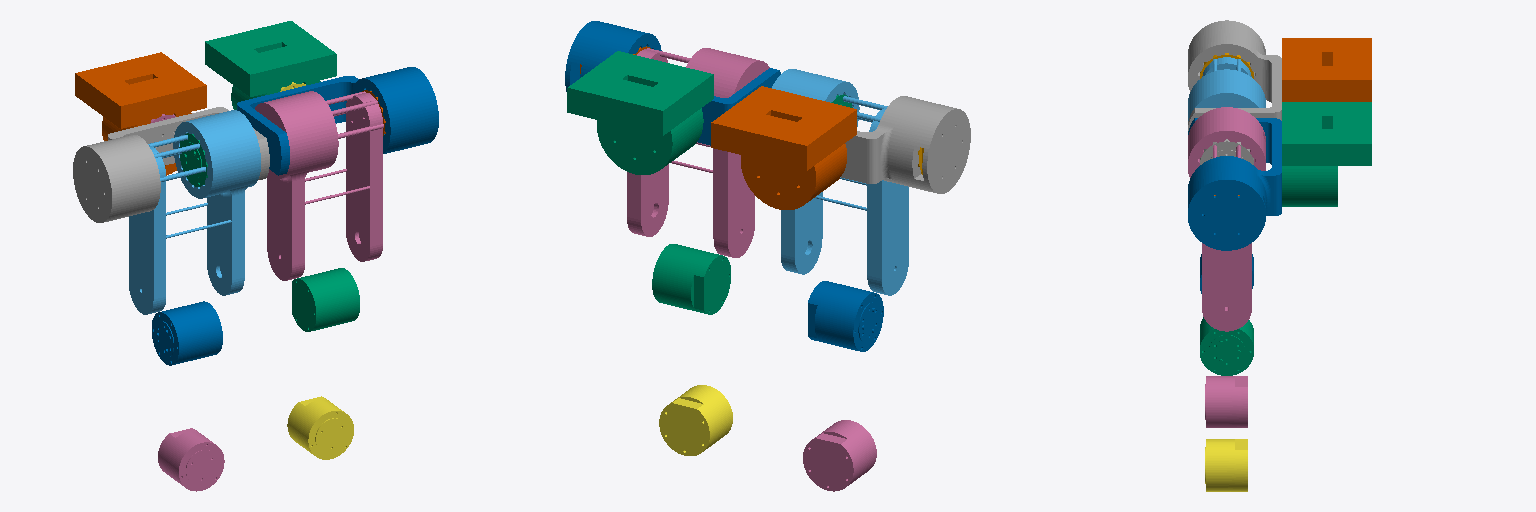
robot.urdf — URDF:
<?xml version='1.0' encoding='utf-8'?>
<robot name="URDF">
  <link name="world" />
  <joint name="floating_base" type="floating">
    <parent link="world" />
    <child link="base_link" />
    <origin xyz="0 0 0" rpy="0 0 0" />
  </joint>
  <link name="base_link">
    <inertial>
      <origin xyz="0.0 -0.03 0.48450000000000004" rpy="0 0 0" />
      <mass value="1.9999979999999995" />
      <inertia ixx="0.016963" iyy="0.016429" izz="0.030533" ixy="0.0" iyz="0.00168" ixz="0.0" />
    </inertial>
    <visual>
      <origin xyz="0 0 0" rpy="0 0 0" />
      <geometry>
        <mesh filename="base_link.stl" scale="0.001 0.001 0.001" />
      </geometry>
      <material name="silver" />
    </visual>
    <collision>
      <origin xyz="0 0 0" rpy="0 0 0" />
      <geometry>
        <mesh filename="base_link.stl" scale="0.001 0.001 0.001" />
      </geometry>
    </collision>
  </link>
  <link name="hipjoint2_L_1">
    <inertial>
      <origin xyz="0.07499938988480921 -0.010369568761044723 -0.44821148623901264" rpy="0 0 0" />
      <mass value="0.09998953884548026" />
      <inertia ixx="0.000126" iyy="0.000143" izz="0.000142" ixy="-0.0" iyz="-1.6e-05" ixz="-0.0" />
    </inertial>
    <visual>
      <origin xyz="-0.0 -0.05 -0.84" rpy="0 0 0" />
      <geometry>
        <mesh filename="hipjoint2_L_1.stl" scale="0.001 0.001 0.001" />
      </geometry>
      <material name="silver" />
    </visual>
    <collision>
      <origin xyz="-0.0 -0.05 -0.84" rpy="0 0 0" />
      <geometry>
        <mesh filename="hipjoint2_L_1.stl" scale="0.001 0.001 0.001" />
      </geometry>
    </collision>
  </link>
  <link name="AK45-36_hiproll_L_1">
    <inertial>
      <origin xyz="3.649858193455202e-15 -0.025929681922883942 -0.00025395116497450854" rpy="0 0 0" />
      <mass value="0.33995023875860664" />
      <inertia ixx="0.000136" iyy="0.000127" izz="0.000138" ixy="0.0" iyz="2e-06" ixz="0.0" />
    </inertial>
    <visual>
      <origin xyz="-0.075 -0.05 -0.3705" rpy="0 0 0" />
      <geometry>
        <mesh filename="AK45-36_hiproll_L_1.stl" scale="0.001 0.001 0.001" />
      </geometry>
      <material name="silver" />
    </visual>
    <collision>
      <origin xyz="-0.075 -0.05 -0.3705" rpy="0 0 0" />
      <geometry>
        <mesh filename="AK45-36_hiproll_L_1.stl" scale="0.001 0.001 0.001" />
      </geometry>
    </collision>
  </link>
  <link name="hipjoint1_L_1">
    <inertial>
      <origin xyz="0.04322145895224758 -0.041064731227878085 -7.216449660063518e-16" rpy="0 0 0" />
      <mass value="0.09999002260131924" />
      <inertia ixx="0.000128" iyy="0.000429" izz="0.000476" ixy="6.1e-05" iyz="0.0" ixz="0.0" />
    </inertial>
    <visual>
      <origin xyz="-0.075 0.002 -0.3705" rpy="0 0 0" />
      <geometry>
        <mesh filename="hipjoint1_L_1.stl" scale="0.001 0.001 0.001" />
      </geometry>
      <material name="silver" />
    </visual>
    <collision>
      <origin xyz="-0.075 0.002 -0.3705" rpy="0 0 0" />
      <geometry>
        <mesh filename="hipjoint1_L_1.stl" scale="0.001 0.001 0.001" />
      </geometry>
    </collision>
  </link>
  <link name="AK45-36_hippitch_L_1">
    <inertial>
      <origin xyz="-0.025929681922883946 -0.0002539511649743906 3.219646771412954e-15" rpy="0 0 0" />
      <mass value="0.33995023875860664" />
      <inertia ixx="0.000127" iyy="0.000138" izz="0.000136" ixy="2e-06" iyz="0.0" ixz="0.0" />
    </inertial>
    <visual>
      <origin xyz="-0.184 0.056 -0.3705" rpy="0 0 0" />
      <geometry>
        <mesh filename="AK45-36_hippitch_L_1.stl" scale="0.001 0.001 0.001" />
      </geometry>
      <material name="silver" />
    </visual>
    <collision>
      <origin xyz="-0.184 0.056 -0.3705" rpy="0 0 0" />
      <geometry>
        <mesh filename="AK45-36_hippitch_L_1.stl" scale="0.001 0.001 0.001" />
      </geometry>
    </collision>
  </link>
  <link name="thigh_L_1">
    <inertial>
      <origin xyz="-0.06166687360385399 -0.0003734522117018954 -0.045311236159508717" rpy="0 0 0" />
      <mass value="0.4999556836274749" />
      <inertia ixx="0.00159" iyy="0.002317" izz="0.001067" ixy="-8e-06" iyz="8e-06" ixz="0.000245" />
    </inertial>
    <visual>
      <origin xyz="-0.132 0.056 -0.3705" rpy="0 0 0" />
      <geometry>
        <mesh filename="thigh_L_1.stl" scale="0.001 0.001 0.001" />
      </geometry>
      <material name="silver" />
    </visual>
    <collision>
      <origin xyz="-0.132 0.056 -0.3705" rpy="0 0 0" />
      <geometry>
        <mesh filename="thigh_L_1.stl" scale="0.001 0.001 0.001" />
      </geometry>
    </collision>
  </link>
  <link name="AK45-36_kneepitch_L_1">
    <inertial>
      <origin xyz="0.025929681922883932 -0.0002539511649743906 -3.885780586188048e-15" rpy="0 0 0" />
      <mass value="0.33995023875860664" />
      <inertia ixx="0.000127" iyy="0.000138" izz="0.000136" ixy="-2e-06" iyz="0.0" ixz="0.0" />
    </inertial>
    <visual>
      <origin xyz="-0.02175 0.056 -0.3705" rpy="0 0 0" />
      <geometry>
        <mesh filename="AK45-36_kneepitch_L_1.stl" scale="0.001 0.001 0.001" />
      </geometry>
      <material name="silver" />
    </visual>
    <collision>
      <origin xyz="-0.02175 0.056 -0.3705" rpy="0 0 0" />
      <geometry>
        <mesh filename="AK45-36_kneepitch_L_1.stl" scale="0.001 0.001 0.001" />
      </geometry>
    </collision>
  </link>
  <link name="calf_L_1">
    <inertial>
      <origin xyz="-0.040288465566247725 -0.00020534515301232764 -0.07496275318570464" rpy="0 0 0" />
      <mass value="0.5000400348749372" />
      <inertia ixx="0.00219" iyy="0.002663" izz="0.000761" ixy="-2e-06" iyz="2e-06" ixz="1.3e-05" />
    </inertial>
    <visual>
      <origin xyz="-0.118 0.056 -0.2405" rpy="0 0 0" />
      <geometry>
        <mesh filename="calf_L_1.stl" scale="0.001 0.001 0.001" />
      </geometry>
      <material name="silver" />
    </visual>
    <collision>
      <origin xyz="-0.118 0.056 -0.2405" rpy="0 0 0" />
      <geometry>
        <mesh filename="calf_L_1.stl" scale="0.001 0.001 0.001" />
      </geometry>
    </collision>
  </link>
  <link name="footJ_L_1">
    <inertial>
      <origin xyz="-0.03640247476299978 0.005293678265899798 -0.0007471238611274078" rpy="0 0 0" />
      <mass value="0.06000029231179884" />
      <inertia ixx="3.2e-05" iyy="5.2e-05" izz="4.5e-05" ixy="2e-06" iyz="0.0" ixz="-0.0" />
    </inertial>
    <visual>
      <origin xyz="-0.118 0.056 -0.0405" rpy="0 0 0" />
      <geometry>
        <mesh filename="footJ_L_1.stl" scale="0.001 0.001 0.001" />
      </geometry>
      <material name="silver" />
    </visual>
    <collision>
      <origin xyz="-0.118 0.056 -0.0405" rpy="0 0 0" />
      <geometry>
        <mesh filename="footJ_L_1.stl" scale="0.001 0.001 0.001" />
      </geometry>
    </collision>
  </link>
  <link name="AK45-36_footpitch_L_1">
    <inertial>
      <origin xyz="0.025929681922883967 -0.00025395116497438364 -3.885780586188048e-15" rpy="0 0 0" />
      <mass value="0.33995023875860664" />
      <inertia ixx="0.000127" iyy="0.000138" izz="0.000136" ixy="-2e-06" iyz="0.0" ixz="0.0" />
    </inertial>
    <visual>
      <origin xyz="-0.054 0.056 -0.1805" rpy="0 0 0" />
      <geometry>
        <mesh filename="AK45-36_footpitch_L_1.stl" scale="0.001 0.001 0.001" />
      </geometry>
      <material name="silver" />
    </visual>
    <collision>
      <origin xyz="-0.054 0.056 -0.1805" rpy="0 0 0" />
      <geometry>
        <mesh filename="AK45-36_footpitch_L_1.stl" scale="0.001 0.001 0.001" />
      </geometry>
    </collision>
  </link>
  <link name="AK45-10_footroll_L_1">
    <inertial>
      <origin xyz="-2.7755575615628914e-17 -0.021367617027735472 -0.0001990697057014726" rpy="0 0 0" />
      <mass value="0.25999992313813247" />
      <inertia ixx="8.3e-05" iyy="9e-05" izz="8.4e-05" ixy="-0.0" iyz="1e-06" ixz="0.0" />
    </inertial>
    <visual>
      <origin xyz="-0.075 0.035 -0.0405" rpy="0 0 0" />
      <geometry>
        <mesh filename="AK45-10_footroll_L_1.stl" scale="0.001 0.001 0.001" />
      </geometry>
      <material name="silver" />
    </visual>
    <collision>
      <origin xyz="-0.075 0.035 -0.0405" rpy="0 0 0" />
      <geometry>
        <mesh filename="AK45-10_footroll_L_1.stl" scale="0.001 0.001 0.001" />
      </geometry>
    </collision>
  </link>
  <link name="foot_L_1">
    <inertial>
      <origin xyz="-9.2148511043888e-15 0.008829275913800477 -0.025461863045541683" rpy="0 0 0" />
      <mass value="0.2998726166531382" />
      <inertia ixx="0.000424" iyy="0.000173" izz="0.000431" ixy="-0.0" iyz="-3.2e-05" ixz="0.0" />
    </inertial>
    <visual>
      <origin xyz="-0.075 0.078 -0.0405" rpy="0 0 0" />
      <geometry>
        <mesh filename="foot_L_1.stl" scale="0.001 0.001 0.001" />
      </geometry>
      <material name="silver" />
    </visual>
    <collision>
      <origin xyz="-0.075 0.078 -0.0405" rpy="0 0 0" />
      <geometry>
        <mesh filename="foot_L_1.stl" scale="0.001 0.001 0.001" />
      </geometry>
    </collision>
  </link>
  <link name="hipjoint2_R_1">
    <inertial>
      <origin xyz="-0.07500061011519077 -0.010369568761044716 -0.44821148623901264" rpy="0 0 0" />
      <mass value="0.09998953884548026" />
      <inertia ixx="0.000126" iyy="0.000143" izz="0.000142" ixy="-0.0" iyz="-1.6e-05" ixz="-0.0" />
    </inertial>
    <visual>
      <origin xyz="-0.0 -0.05 -0.84" rpy="0 0 0" />
      <geometry>
        <mesh filename="hipjoint2_R_1.stl" scale="0.001 0.001 0.001" />
      </geometry>
      <material name="silver" />
    </visual>
    <collision>
      <origin xyz="-0.0 -0.05 -0.84" rpy="0 0 0" />
      <geometry>
        <mesh filename="hipjoint2_R_1.stl" scale="0.001 0.001 0.001" />
      </geometry>
    </collision>
  </link>
  <link name="AK45-36_hiproll_R_1">
    <inertial>
      <origin xyz="3.635980405647388e-15 -0.025929681922883977 -0.0002539511649743975" rpy="0 0 0" />
      <mass value="0.33995023875860664" />
      <inertia ixx="0.000136" iyy="0.000127" izz="0.000138" ixy="0.0" iyz="2e-06" ixz="0.0" />
    </inertial>
    <visual>
      <origin xyz="0.075 -0.05 -0.3705" rpy="0 0 0" />
      <geometry>
        <mesh filename="AK45-36_hiproll_R_1.stl" scale="0.001 0.001 0.001" />
      </geometry>
      <material name="silver" />
    </visual>
    <collision>
      <origin xyz="0.075 -0.05 -0.3705" rpy="0 0 0" />
      <geometry>
        <mesh filename="AK45-36_hiproll_R_1.stl" scale="0.001 0.001 0.001" />
      </geometry>
    </collision>
  </link>
  <link name="hipjoint1_R_1">
    <inertial>
      <origin xyz="-0.04322145895224483 -0.04106473122787697 -3.885780586188048e-16" rpy="0 0 0" />
      <mass value="0.09999002260130978" />
      <inertia ixx="0.000128" iyy="0.000429" izz="0.000476" ixy="-6.1e-05" iyz="0.0" ixz="-0.0" />
    </inertial>
    <visual>
      <origin xyz="0.075 0.002 -0.3705" rpy="0 0 0" />
      <geometry>
        <mesh filename="hipjoint1_R_1.stl" scale="0.001 0.001 0.001" />
      </geometry>
      <material name="silver" />
    </visual>
    <collision>
      <origin xyz="0.075 0.002 -0.3705" rpy="0 0 0" />
      <geometry>
        <mesh filename="hipjoint1_R_1.stl" scale="0.001 0.001 0.001" />
      </geometry>
    </collision>
  </link>
  <link name="AK45-36_hippitch_R_1">
    <inertial>
      <origin xyz="0.025929681922883946 -0.00025395116497441833 -3.7192471324942744e-15" rpy="0 0 0" />
      <mass value="0.33995023875860664" />
      <inertia ixx="0.000127" iyy="0.000138" izz="0.000136" ixy="-2e-06" iyz="0.0" ixz="0.0" />
    </inertial>
    <visual>
      <origin xyz="0.184 0.056 -0.3705" rpy="0 0 0" />
      <geometry>
        <mesh filename="AK45-36_hippitch_R_1.stl" scale="0.001 0.001 0.001" />
      </geometry>
      <material name="silver" />
    </visual>
    <collision>
      <origin xyz="0.184 0.056 -0.3705" rpy="0 0 0" />
      <geometry>
        <mesh filename="AK45-36_hippitch_R_1.stl" scale="0.001 0.001 0.001" />
      </geometry>
    </collision>
  </link>
  <link name="thigh_R_1">
    <inertial>
      <origin xyz="0.06166687360385377 -0.0003734522117019648 -0.045311236159512325" rpy="0 0 0" />
      <mass value="0.49995921031578194" />
      <inertia ixx="0.00159" iyy="0.002317" izz="0.001067" ixy="8e-06" iyz="8e-06" ixz="-0.000245" />
    </inertial>
    <visual>
      <origin xyz="0.132 0.056 -0.3705" rpy="0 0 0" />
      <geometry>
        <mesh filename="thigh_R_1.stl" scale="0.001 0.001 0.001" />
      </geometry>
      <material name="silver" />
    </visual>
    <collision>
      <origin xyz="0.132 0.056 -0.3705" rpy="0 0 0" />
      <geometry>
        <mesh filename="thigh_R_1.stl" scale="0.001 0.001 0.001" />
      </geometry>
    </collision>
  </link>
  <link name="AK45-36_kneepitch_R_1">
    <inertial>
      <origin xyz="-0.025929681922883897 -0.00025395116497441833 3.552713678800501e-15" rpy="0 0 0" />
      <mass value="0.33995023875860664" />
      <inertia ixx="0.000127" iyy="0.000138" izz="0.000136" ixy="2e-06" iyz="0.0" ixz="0.0" />
    </inertial>
    <visual>
      <origin xyz="0.02175 0.056 -0.3705" rpy="0 0 0" />
      <geometry>
        <mesh filename="AK45-36_kneepitch_R_1.stl" scale="0.001 0.001 0.001" />
      </geometry>
      <material name="silver" />
    </visual>
    <collision>
      <origin xyz="0.02175 0.056 -0.3705" rpy="0 0 0" />
      <geometry>
        <mesh filename="AK45-36_kneepitch_R_1.stl" scale="0.001 0.001 0.001" />
      </geometry>
    </collision>
  </link>
  <link name="calf_R_1">
    <inertial>
      <origin xyz="0.04028846556625301 -0.0002053451530124456 -0.07496275318570209" rpy="0 0 0" />
      <mass value="0.5000400348750299" />
      <inertia ixx="0.00219" iyy="0.002663" izz="0.000761" ixy="2e-06" iyz="2e-06" ixz="-1.3e-05" />
    </inertial>
    <visual>
      <origin xyz="0.118 0.056 -0.2405" rpy="0 0 0" />
      <geometry>
        <mesh filename="calf_R_1.stl" scale="0.001 0.001 0.001" />
      </geometry>
      <material name="silver" />
    </visual>
    <collision>
      <origin xyz="0.118 0.056 -0.2405" rpy="0 0 0" />
      <geometry>
        <mesh filename="calf_R_1.stl" scale="0.001 0.001 0.001" />
      </geometry>
    </collision>
  </link>
  <link name="AK45-36_footpitch_R_1">
    <inertial>
      <origin xyz="-0.025929681922884022 -0.0002539511649745155 3.552713678800501e-15" rpy="0 0 0" />
      <mass value="0.33995023875860664" />
      <inertia ixx="0.000127" iyy="0.000138" izz="0.000136" ixy="2e-06" iyz="0.0" ixz="0.0" />
    </inertial>
    <visual>
      <origin xyz="0.054 0.056 -0.1805" rpy="0 0 0" />
      <geometry>
        <mesh filename="AK45-36_footpitch_R_1.stl" scale="0.001 0.001 0.001" />
      </geometry>
      <material name="silver" />
    </visual>
    <collision>
      <origin xyz="0.054 0.056 -0.1805" rpy="0 0 0" />
      <geometry>
        <mesh filename="AK45-36_footpitch_R_1.stl" scale="0.001 0.001 0.001" />
      </geometry>
    </collision>
  </link>
  <link name="footJ_R_1">
    <inertial>
      <origin xyz="0.03640247476299972 0.005293678265899611 -0.0007471238611273454" rpy="0 0 0" />
      <mass value="0.06000029231179887" />
      <inertia ixx="3.2e-05" iyy="5.2e-05" izz="4.5e-05" ixy="-2e-06" iyz="0.0" ixz="0.0" />
    </inertial>
    <visual>
      <origin xyz="0.118 0.056 -0.0405" rpy="0 0 0" />
      <geometry>
        <mesh filename="footJ_R_1.stl" scale="0.001 0.001 0.001" />
      </geometry>
      <material name="silver" />
    </visual>
    <collision>
      <origin xyz="0.118 0.056 -0.0405" rpy="0 0 0" />
      <geometry>
        <mesh filename="footJ_R_1.stl" scale="0.001 0.001 0.001" />
      </geometry>
    </collision>
  </link>
  <link name="AK45-10_footroll_R_1">
    <inertial>
      <origin xyz="-6.938893903907228e-17 -0.02136761702773563 -0.00019906970570141708" rpy="0 0 0" />
      <mass value="0.25999992313813247" />
      <inertia ixx="8.3e-05" iyy="9e-05" izz="8.4e-05" ixy="-0.0" iyz="1e-06" ixz="0.0" />
    </inertial>
    <visual>
      <origin xyz="0.075 0.035 -0.0405" rpy="0 0 0" />
      <geometry>
        <mesh filename="AK45-10_footroll_R_1.stl" scale="0.001 0.001 0.001" />
      </geometry>
      <material name="silver" />
    </visual>
    <collision>
      <origin xyz="0.075 0.035 -0.0405" rpy="0 0 0" />
      <geometry>
        <mesh filename="AK45-10_footroll_R_1.stl" scale="0.001 0.001 0.001" />
      </geometry>
    </collision>
  </link>
  <link name="foot_R_1">
    <inertial>
      <origin xyz="-9.298117831235686e-15 0.008829275913800338 -0.025461863045541645" rpy="0 0 0" />
      <mass value="0.2998726166531382" />
      <inertia ixx="0.000424" iyy="0.000173" izz="0.000431" ixy="-0.0" iyz="-3.2e-05" ixz="0.0" />
    </inertial>
    <visual>
      <origin xyz="0.075 0.078 -0.0405" rpy="0 0 0" />
      <geometry>
        <mesh filename="foot_R_1.stl" scale="0.001 0.001 0.001" />
      </geometry>
      <material name="silver" />
    </visual>
    <collision>
      <origin xyz="0.075 0.078 -0.0405" rpy="0 0 0" />
      <geometry>
        <mesh filename="foot_R_1.stl" scale="0.001 0.001 0.001" />
      </geometry>
    </collision>
  </link>
  <joint name="Rigid 1" type="fixed">
    <origin xyz="0.0 0.05 0.84" rpy="0 0 0" />
    <parent link="base_link" />
    <child link="hipjoint2_L_1" />
  </joint>
  <joint name="Rigid 2" type="fixed">
    <origin xyz="0.075 0.0 -0.4695" rpy="0 0 0" />
    <parent link="hipjoint2_L_1" />
    <child link="AK45-36_hiproll_L_1" />
  </joint>
  <joint name="Revolute 3" type="revolute">
    <origin xyz="0.0 -0.052 0.0" rpy="0 0 0" />
    <parent link="AK45-36_hiproll_L_1" />
    <child link="hipjoint1_L_1" />
    <axis xyz="0.0 -1.0 0.0" />
    <limit upper="0.523599" lower="-0.523599" effort="100" velocity="100" />
  </joint>
  <joint name="Rigid 4" type="fixed">
    <origin xyz="0.109 -0.054 0.0" rpy="0 0 0" />
    <parent link="hipjoint1_L_1" />
    <child link="AK45-36_hippitch_L_1" />
  </joint>
  <joint name="Revolute 5" type="revolute">
    <origin xyz="-0.052 0.0 0.0" rpy="0 0 0" />
    <parent link="AK45-36_hippitch_L_1" />
    <child link="thigh_L_1" />
    <axis xyz="-1.0 0.0 -0.0" />
    <limit upper="1.570796" lower="-0.523599" effort="100" velocity="100" />
  </joint>
  <joint name="Rigid 6" type="fixed">
    <origin xyz="-0.11025 0.0 0.0" rpy="0 0 0" />
    <parent link="thigh_L_1" />
    <child link="AK45-36_kneepitch_L_1" />
  </joint>
  <joint name="Revolute 7" type="revolute">
    <origin xyz="-0.014 0.0 -0.13" rpy="0 0 0" />
    <parent link="thigh_L_1" />
    <child link="calf_L_1" />
    <axis xyz="-1.0 0.0 -0.0" />
    <limit upper="1.570796" lower="-1.570796" effort="100" velocity="100" />
  </joint>
  <joint name="Revolute 8" type="revolute">
    <origin xyz="0.0 0.0 -0.2" rpy="0 0 0" />
    <parent link="calf_L_1" />
    <child link="footJ_L_1" />
    <axis xyz="1.0 0.0 0.0" />
    <limit upper="1.570796" lower="-1.570796" effort="100" velocity="100" />
  </joint>
  <joint name="Rigid 9" type="fixed">
    <origin xyz="-0.064 0.0 -0.06" rpy="0 0 0" />
    <parent link="calf_L_1" />
    <child link="AK45-36_footpitch_L_1" />
  </joint>
  <joint name="Rigid 10" type="fixed">
    <origin xyz="-0.043 0.021 0.0" rpy="0 0 0" />
    <parent link="footJ_L_1" />
    <child link="AK45-10_footroll_L_1" />
  </joint>
  <joint name="Revolute 11" type="revolute">
    <origin xyz="0.0 -0.043 0.0" rpy="0 0 0" />
    <parent link="AK45-10_footroll_L_1" />
    <child link="foot_L_1" />
    <axis xyz="-0.0 -1.0 0.0" />
    <limit upper="1.570796" lower="-1.570796" effort="100" velocity="100" />
  </joint>
  <joint name="Rigid 12" type="fixed">
    <origin xyz="0.0 0.05 0.84" rpy="0 0 0" />
    <parent link="base_link" />
    <child link="hipjoint2_R_1" />
  </joint>
  <joint name="Rigid 13" type="fixed">
    <origin xyz="-0.075 0.0 -0.4695" rpy="0 0 0" />
    <parent link="hipjoint2_R_1" />
    <child link="AK45-36_hiproll_R_1" />
  </joint>
  <joint name="Revolute 14" type="revolute">
    <origin xyz="0.0 -0.052 0.0" rpy="0 0 0" />
    <parent link="AK45-36_hiproll_R_1" />
    <child link="hipjoint1_R_1" />
    <axis xyz="0.0 -1.0 0.0" />
    <limit upper="0.523599" lower="-0.523599" effort="100" velocity="100" />
  </joint>
  <joint name="Rigid 15" type="fixed">
    <origin xyz="-0.109 -0.054 0.0" rpy="0 0 0" />
    <parent link="hipjoint1_R_1" />
    <child link="AK45-36_hippitch_R_1" />
  </joint>
  <joint name="Revolute 16" type="revolute">
    <origin xyz="0.052 0.0 0.0" rpy="0 0 0" />
    <parent link="AK45-36_hippitch_R_1" />
    <child link="thigh_R_1" />
    <axis xyz="1.0 0.0 0.0" />
    <limit upper="0.523599" lower="-1.570796" effort="100" velocity="100" />
  </joint>
  <joint name="Rigid 17" type="fixed">
    <origin xyz="0.11025 0.0 0.0" rpy="0 0 0" />
    <parent link="thigh_R_1" />
    <child link="AK45-36_kneepitch_R_1" />
  </joint>
  <joint name="Revolute 18" type="revolute">
    <origin xyz="0.014 0.0 -0.13" rpy="0 0 0" />
    <parent link="thigh_R_1" />
    <child link="calf_R_1" />
    <axis xyz="1.0 0.0 0.0" />
    <limit upper="1.570796" lower="-1.570796" effort="100" velocity="100" />
  </joint>
  <joint name="Rigid 19" type="fixed">
    <origin xyz="0.064 0.0 -0.06" rpy="0 0 0" />
    <parent link="calf_R_1" />
    <child link="AK45-36_footpitch_R_1" />
  </joint>
  <joint name="Revolute 20" type="revolute">
    <origin xyz="0.0 0.0 -0.2" rpy="0 0 0" />
    <parent link="calf_R_1" />
    <child link="footJ_R_1" />
    <axis xyz="1.0 0.0 0.0" />
    <limit upper="1.570796" lower="-1.570796" effort="100" velocity="100" />
  </joint>
  <joint name="Rigid 21" type="fixed">
    <origin xyz="0.043 0.021 0.0" rpy="0 0 0" />
    <parent link="footJ_R_1" />
    <child link="AK45-10_footroll_R_1" />
  </joint>
  <joint name="Revolute 22" type="revolute">
    <origin xyz="0.0 -0.043 0.0" rpy="0 0 0" />
    <parent link="AK45-10_footroll_R_1" />
    <child link="foot_R_1" />
    <axis xyz="0.0 -1.0 0.0" />
    <limit upper="1.570796" lower="-1.570796" effort="100" velocity="100" />
  </joint>
</robot>

--- Facts derived from the render (not from the file) ---
3 views of the same robot in one strip: view 1: azimuth 30°, elevation 25°; view 2: azimuth 150°, elevation 25°; view 3: azimuth 270°, elevation 25° (orthographic).
Model URDF with 24 links and 23 joints (10 revolute, 12 fixed, 1 floating), rooted at world, posed all joints at 0.
Visible links, largest first — view 1: thigh_L_1, thigh_R_1, hipjoint1_R_1, hipjoint1_L_1, hipjoint2_R_1, hipjoint2_L_1, AK45-36_footpitch_R_1, AK45-36_footpitch_L_1, AK45-10_footroll_L_1, AK45-10_footroll_R_1, AK45-36_kneepitch_R_1; view 2: hipjoint2_L_1, hipjoint2_R_1, thigh_R_1, thigh_L_1, hipjoint1_R_1, AK45-36_footpitch_L_1, AK45-36_footpitch_R_1, hipjoint1_L_1, AK45-10_footroll_L_1, AK45-10_footroll_R_1; view 3: hipjoint2_L_1, hipjoint1_L_1, thigh_L_1, hipjoint2_R_1, hipjoint1_R_1, thigh_R_1, AK45-36_footpitch_L_1, AK45-10_footroll_L_1, AK45-10_footroll_R_1, AK45-36_kneepitch_L_1.
Link boxes in pixels (x1,y1,x2,y2): thigh_L_1: [255, 91, 383, 280]; thigh_R_1: [129, 110, 260, 314]; hipjoint1_R_1: [73, 107, 269, 222]; hipjoint1_L_1: [237, 67, 438, 175]; hipjoint2_R_1: [75, 52, 206, 175]; hipjoint2_L_1: [205, 21, 336, 109]; AK45-36_footpitch_R_1: [152, 301, 222, 365]; AK45-36_footpitch_L_1: [292, 268, 359, 331]; AK45-10_footroll_L_1: [287, 396, 353, 459]; AK45-10_footroll_R_1: [158, 428, 224, 491]; AK45-36_kneepitch_R_1: [179, 133, 207, 186]; hipjoint2_L_1: [567, 51, 713, 174]; hipjoint2_R_1: [711, 86, 856, 209]; thigh_R_1: [772, 69, 908, 295]; thigh_L_1: [627, 48, 769, 257]; hipjoint1_R_1: [841, 96, 970, 193]; AK45-36_footpitch_L_1: [652, 244, 730, 314]; AK45-36_footpitch_R_1: [808, 281, 883, 351]; hipjoint1_L_1: [565, 21, 780, 145]; AK45-10_footroll_L_1: [659, 385, 732, 455]; AK45-10_footroll_R_1: [803, 420, 876, 491]; hipjoint2_L_1: [1282, 102, 1371, 206]; hipjoint1_L_1: [1188, 118, 1281, 250]; thigh_L_1: [1188, 107, 1265, 331]; hipjoint2_R_1: [1282, 38, 1371, 101]; hipjoint1_R_1: [1188, 20, 1281, 130]; thigh_R_1: [1188, 57, 1265, 120]; AK45-36_footpitch_L_1: [1200, 317, 1253, 375]; AK45-10_footroll_L_1: [1205, 439, 1247, 491]; AK45-10_footroll_R_1: [1205, 376, 1247, 427]; AK45-36_kneepitch_L_1: [1200, 139, 1253, 164].
Size in the robot's own frame: 0.378 by 0.1855 by 0.406 metres.
Meshes: 23 distinct files referenced, 16 mesh visuals loaded (16 binary STL); not drawn: 7 (reference not matched to a file when rendering).
